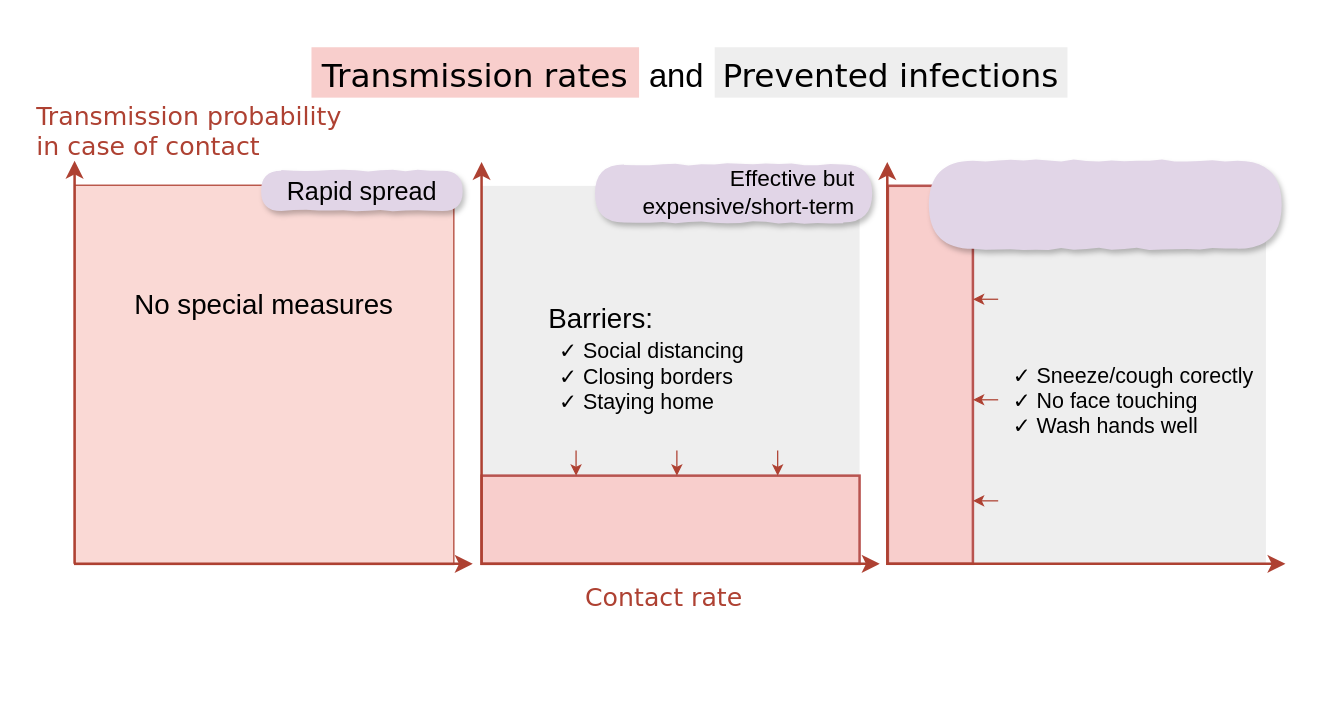
Image size: 1328x704. Some labels were removed from this diagram. The centre of each missing label's shape, as x and y in pixels:
"Effective and cheap/long-term but needs cultural change and mindfullness" goes at point 1106,206.
"Personal hygiene:" goes at point 930,374.
